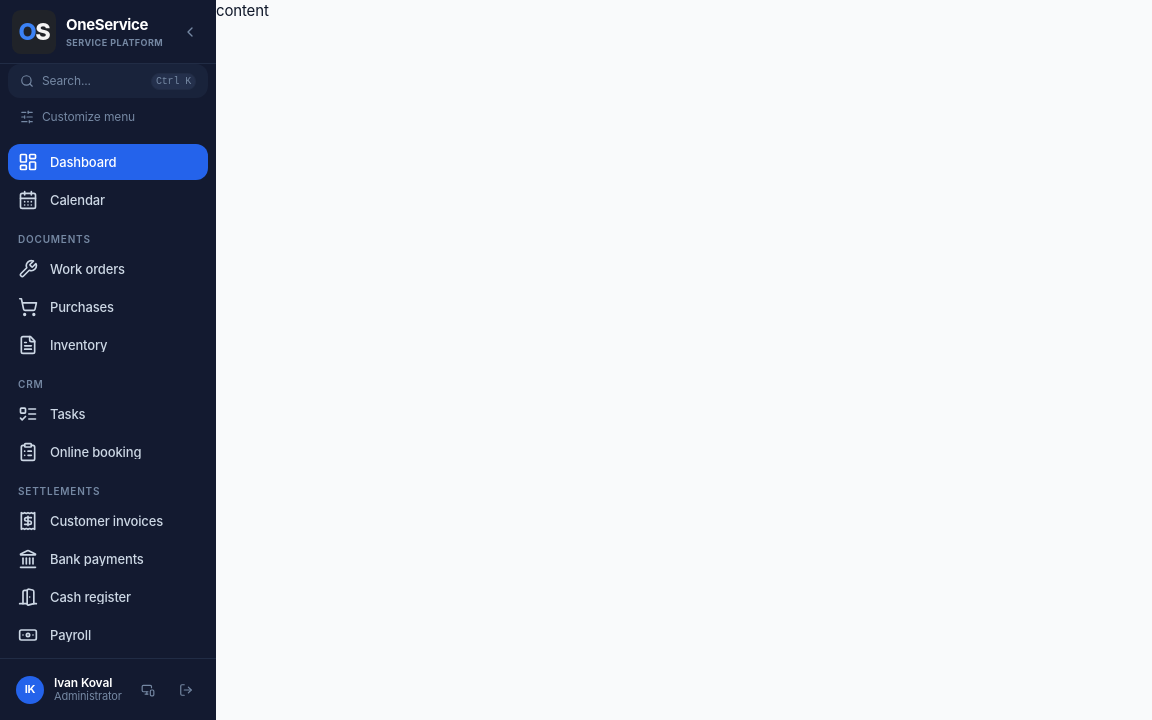
Test: TopShell — тексти оболонки за мовою інтерфейсу › en — підтвердження виходу англійською
Click the button titled "Sign out" at [186, 690], box [172,676,200,704]
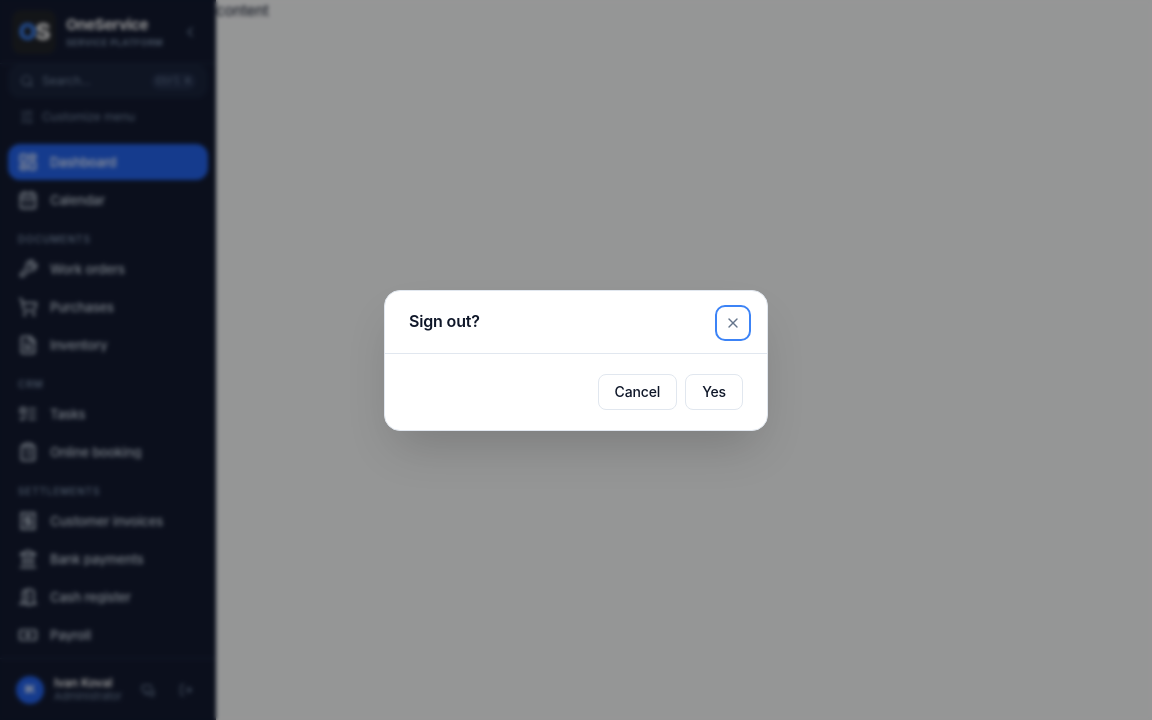
Expected: the dialog "Sign out?" is shown
